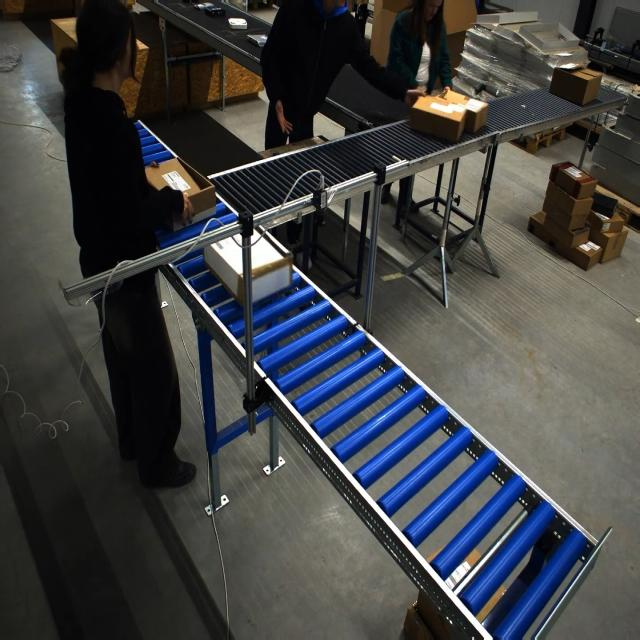box: (203, 230, 292, 309), (146, 156, 217, 230), (409, 92, 467, 143), (519, 20, 583, 55)
product: (246, 33, 268, 47), (203, 6, 226, 17), (227, 17, 248, 29), (193, 2, 215, 11)
